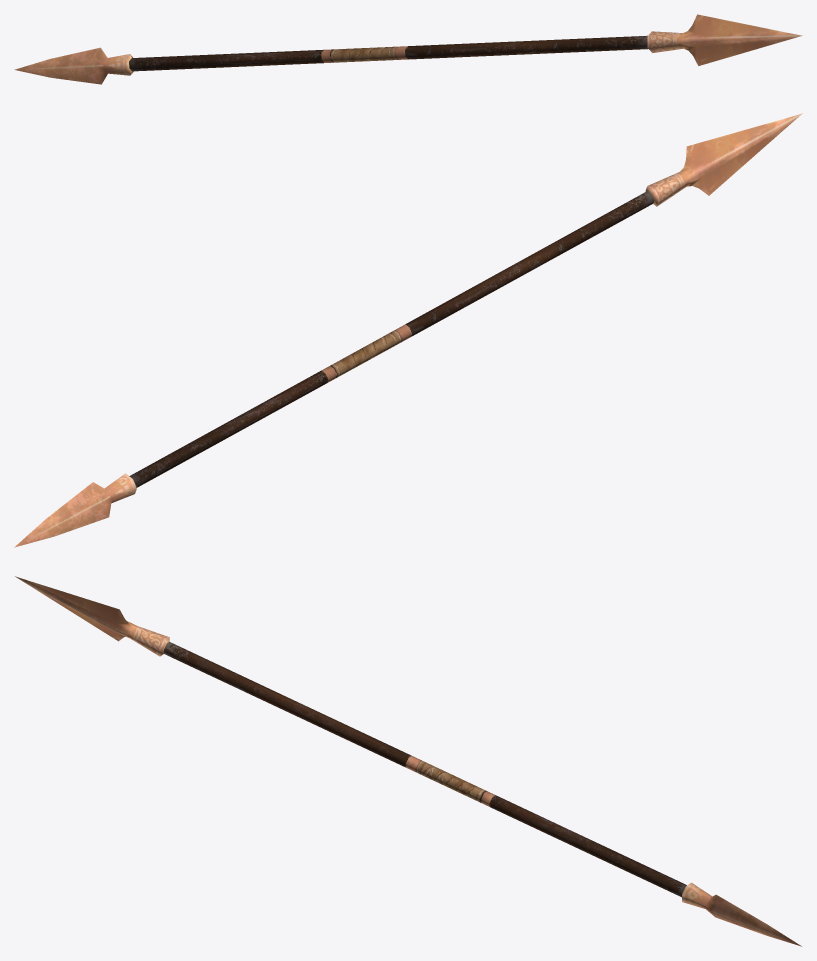
File: rider-weapon-slice-base.glb
3 views of the same model, one above another, from view 1: azimuth 90°, elevation 25°; view 2: azimuth 150°, elevation 25°; view 3: azimuth 270°, elevation 25° (orthographic). The views are drawn at different scales.
Bounding box in the file's own units: 1.33 × 0.7471 × 2.64.
Materials: 1 (1 with a texture image).
